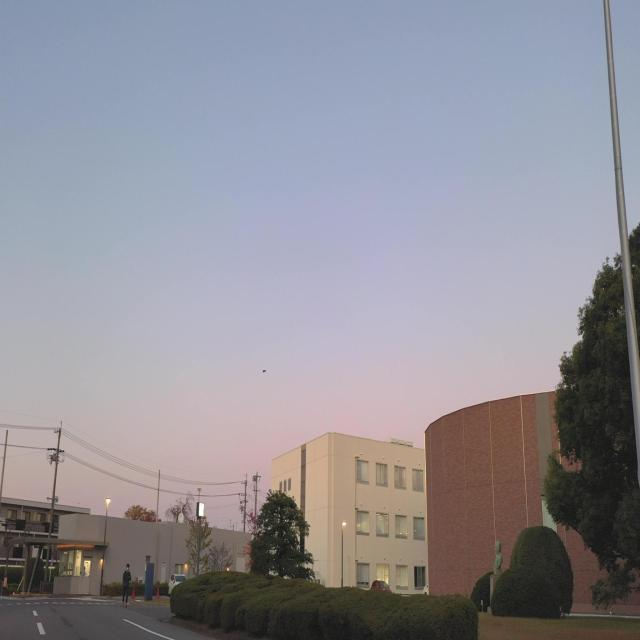Birds: (260, 366, 268, 374)
